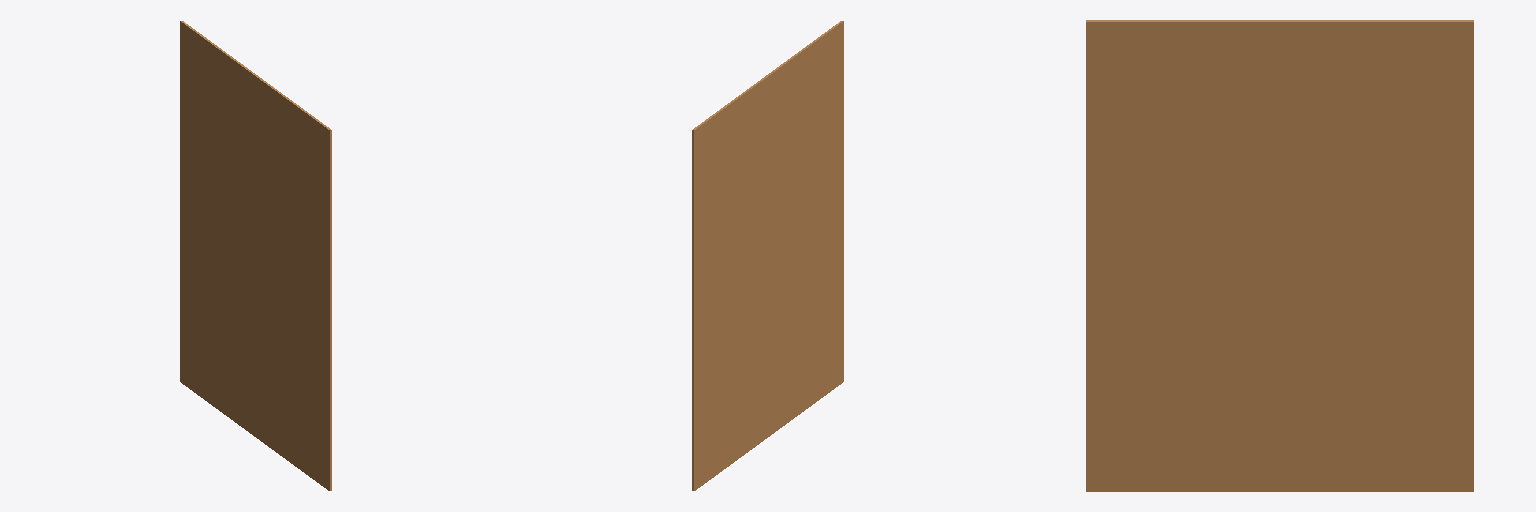
URDF robot description (plate):
<robot name="plate">
<link name="link">
   <inertial>
     <origin xyz="0 0 0" rpy="0 0 0"/>
     <mass value=".0"/>
     <inertia ixx="0"  ixy="0"  ixz="0" iyy="0" iyz="0" izz="0" />
   </inertial>

   <visual>
     <origin xyz="0 0 0" rpy="0 0 0" />
     <geometry>
       <box size="0.01 1.2 1.6 " />
     </geometry>
    <material name="brawn">
     <color rgba="0.8  0.6 0.4 1"/>
     </material>
   </visual>

 </link>
 </robot>

--- Render facts (derived) ---
The picture shows the robot from 3 angles, left to right: view 1: azimuth 30°, elevation 25°; view 2: azimuth 150°, elevation 25°; view 3: azimuth 270°, elevation 25°; orthographic projection.
Model plate with 1 links and 0 joints (none), rooted at link, posed all joints at 0.
Links seen in each view (by area): view 1: link; view 2: link; view 3: link.
Boxes of the visible links, x1,y1,x2,y2 form: link: [180, 21, 331, 490]; link: [692, 21, 843, 490]; link: [1086, 20, 1473, 491].
Bounding box of the posed robot: 0.01 × 1.2 × 1.6 m (x, y, z).
Geometry: primitives only (box / cylinder / sphere), no mesh files.